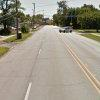Tree: (53, 2, 100, 33)
